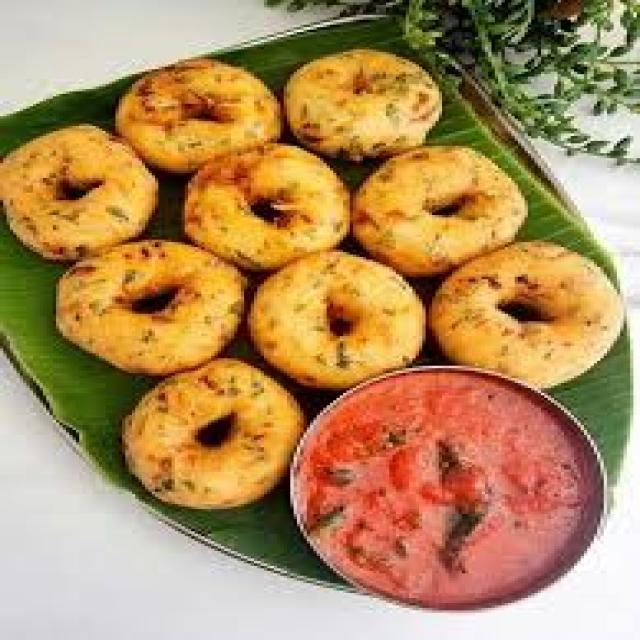MEDU VADA: (0, 52, 617, 388), (129, 390, 300, 504)
